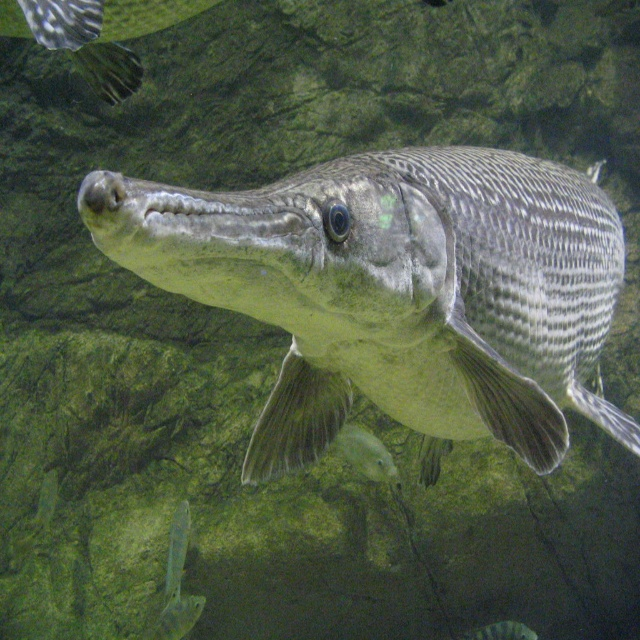Fish: (72, 131, 640, 510), (0, 0, 239, 110), (12, 468, 67, 562), (322, 431, 399, 484), (161, 496, 193, 616), (154, 598, 207, 640), (454, 616, 541, 640)
